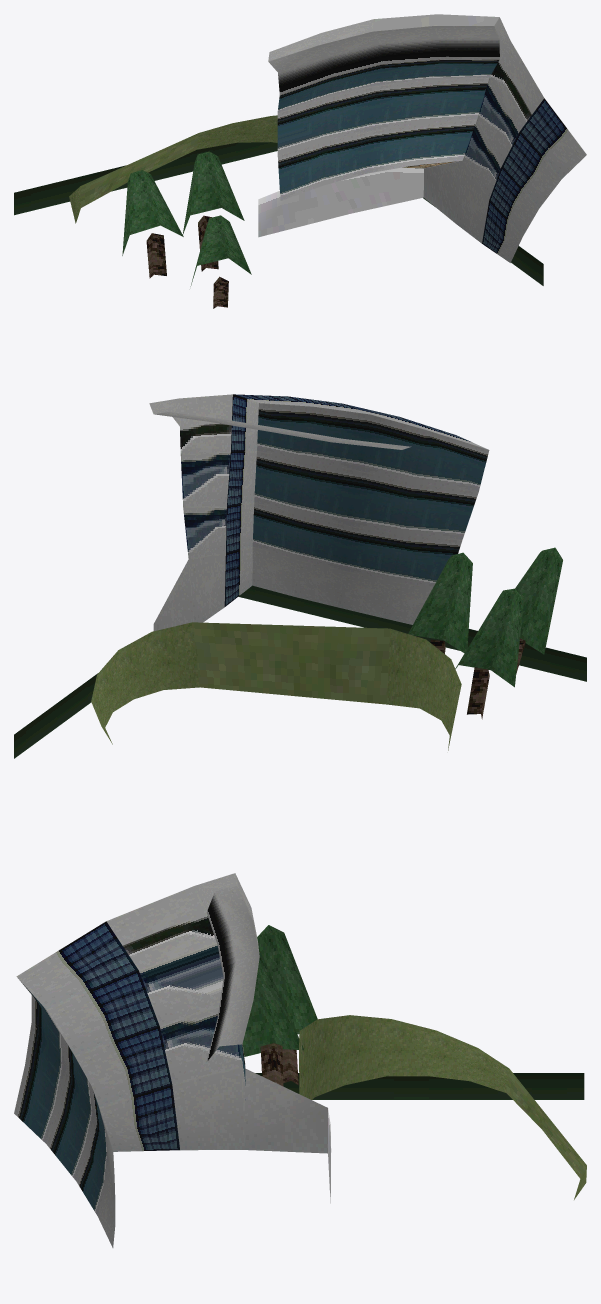
The model's file is ps2_save-icons_g1jockey3.glb.
3 views of the same model, one above another, from view 1: azimuth 30°, elevation 25°; view 2: azimuth 150°, elevation 25°; view 3: azimuth 270°, elevation 25° (orthographic). The views are drawn at different scales.
Parts seen in each view (by area): view 1: story.icn; view 2: story.icn; view 3: story.icn.
Part boxes in pixels (x1,y1,x2,y2): story.icn: [14, 14, 586, 308]; story.icn: [14, 394, 586, 758]; story.icn: [14, 873, 586, 1247].
Size of the model in its own units: 4.28 by 2.78 by 4.95.
Materials: 1 (1 with a texture image).
